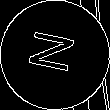N_E: (26, 30, 84, 80)
